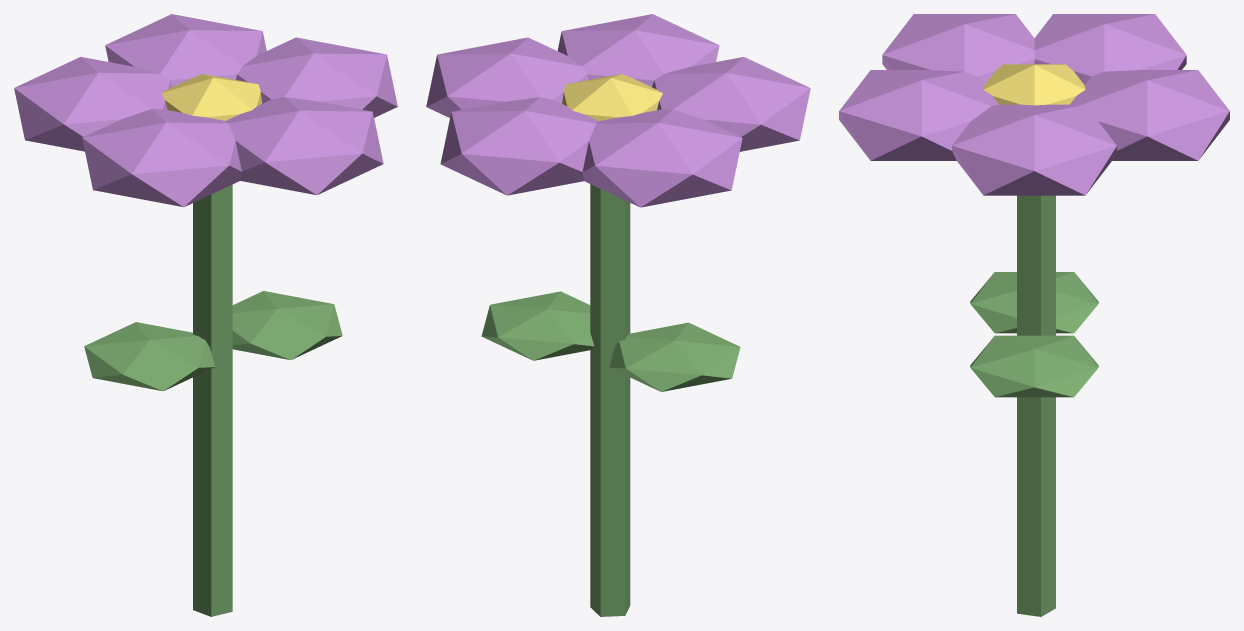
The model's file is fleur_violet.glb.
The picture shows the model from 3 angles, left to right: view 1: azimuth 30°, elevation 25°; view 2: azimuth 150°, elevation 25°; view 3: azimuth 270°, elevation 25°; orthographic projection. The views are drawn at different scales.
Visible parts, largest first — view 1: Cylinder, Icosphere.003, Icosphere.004, Icosphere.002, Icosphere, Icosphere.001, Icosphere.006, Icosphere.007, Icosphere.005; view 2: Cylinder, Icosphere.002, Icosphere.001, Icosphere.003, Icosphere, Icosphere.004, Icosphere.006, Icosphere.007, Icosphere.005; view 3: Cylinder, Icosphere, Icosphere.001, Icosphere.004, Icosphere.002, Icosphere.003, Icosphere.007, Icosphere.006, Icosphere.005.
Part boxes in pixels (x1=…): Cylinder: x1=193, y1=184, x2=232, y2=616; Icosphere.003: x1=82, y1=109, x2=241, y2=207; Icosphere.004: x1=226, y1=97, x2=383, y2=195; Icosphere.002: x1=14, y1=57, x2=172, y2=151; Icosphere: x1=236, y1=37, x2=397, y2=117; Icosphere.001: x1=105, y1=14, x2=266, y2=86; Icosphere.006: x1=84, y1=322, x2=214, y2=391; Icosphere.007: x1=232, y1=291, x2=342, y2=360; Icosphere.005: x1=161, y1=74, x2=262, y2=120; Cylinder: x1=590, y1=184, x2=630, y2=616; Icosphere.002: x1=582, y1=109, x2=742, y2=207; Icosphere.001: x1=440, y1=97, x2=598, y2=195; Icosphere.003: x1=652, y1=57, x2=810, y2=151; Icosphere: x1=426, y1=37, x2=588, y2=117; Icosphere.004: x1=557, y1=14, x2=719, y2=86; Icosphere.006: x1=609, y1=322, x2=740, y2=391; Icosphere.007: x1=481, y1=291, x2=594, y2=360; Icosphere.005: x1=562, y1=74, x2=662, y2=120; Cylinder: x1=1017, y1=195, x2=1055, y2=616; Icosphere: x1=952, y1=104, x2=1116, y2=195; Icosphere.001: x1=1070, y1=70, x2=1229, y2=160; Icosphere.004: x1=839, y1=70, x2=998, y2=160; Icosphere.002: x1=1034, y1=14, x2=1186, y2=84; Icosphere.003: x1=882, y1=14, x2=1034, y2=84; Icosphere.007: x1=970, y1=335, x2=1098, y2=397; Icosphere.006: x1=970, y1=272, x2=1098, y2=333; Icosphere.005: x1=983, y1=64, x2=1085, y2=105.
Size of the model in its own units: 0.36 by 0.556 by 0.3623.
